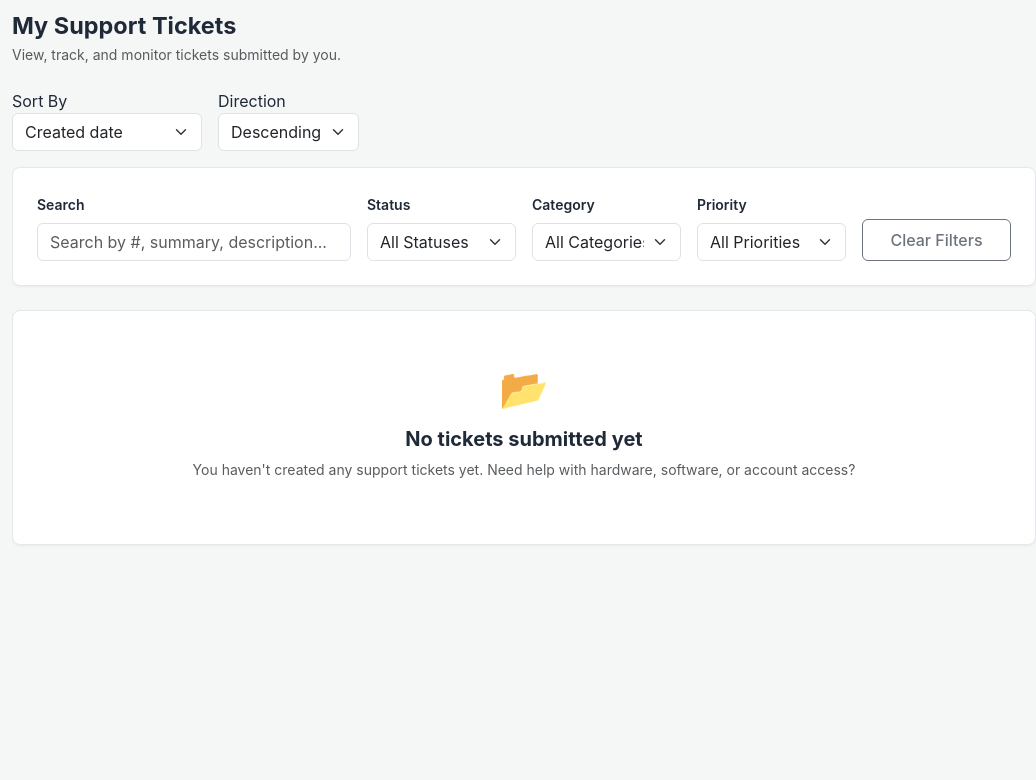
Test case: Lab 2 (Issue #5) - MyTickets Component › displays no-matching-results state when search/filter returns zero tickets
The width and height of the screenshot is (1036, 780).
Type "nonexistent" into the field named "Search tickets" at coordinates (194, 242), box x1=37 y1=223 x2=351 y2=261
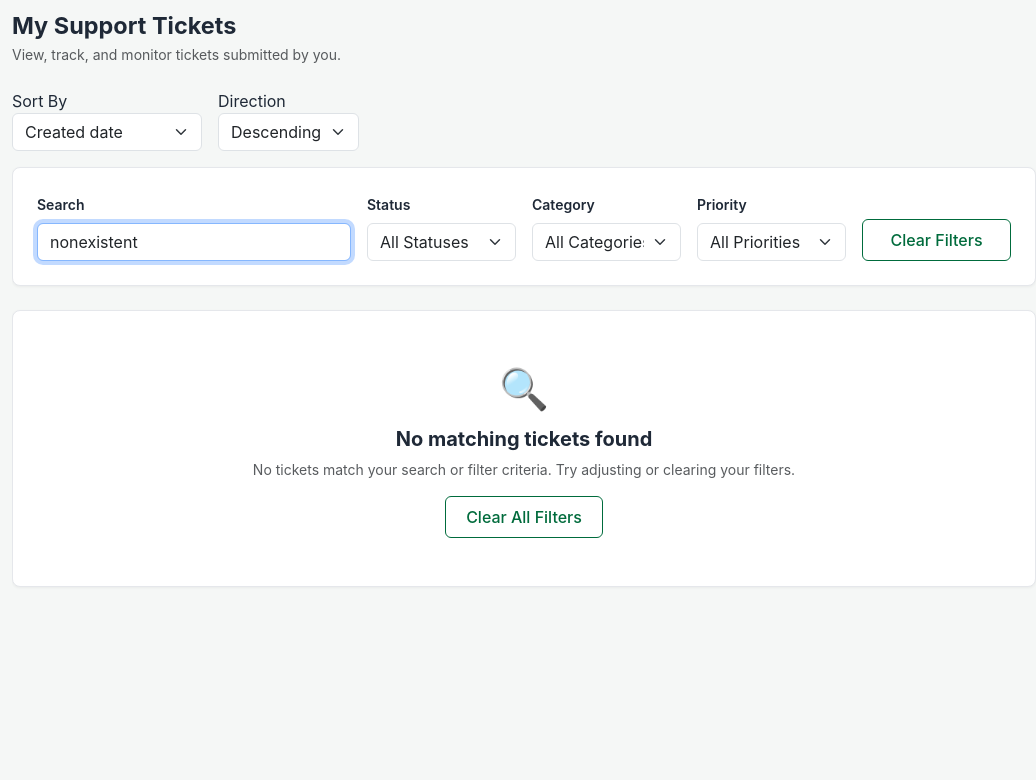
Result: the heading "No matching tickets found" is shown at x1=396 y1=427 x2=652 y2=451
Click the button "Clear All Filters" at coordinates (524, 517), box x1=445 y1=496 x2=603 y2=538
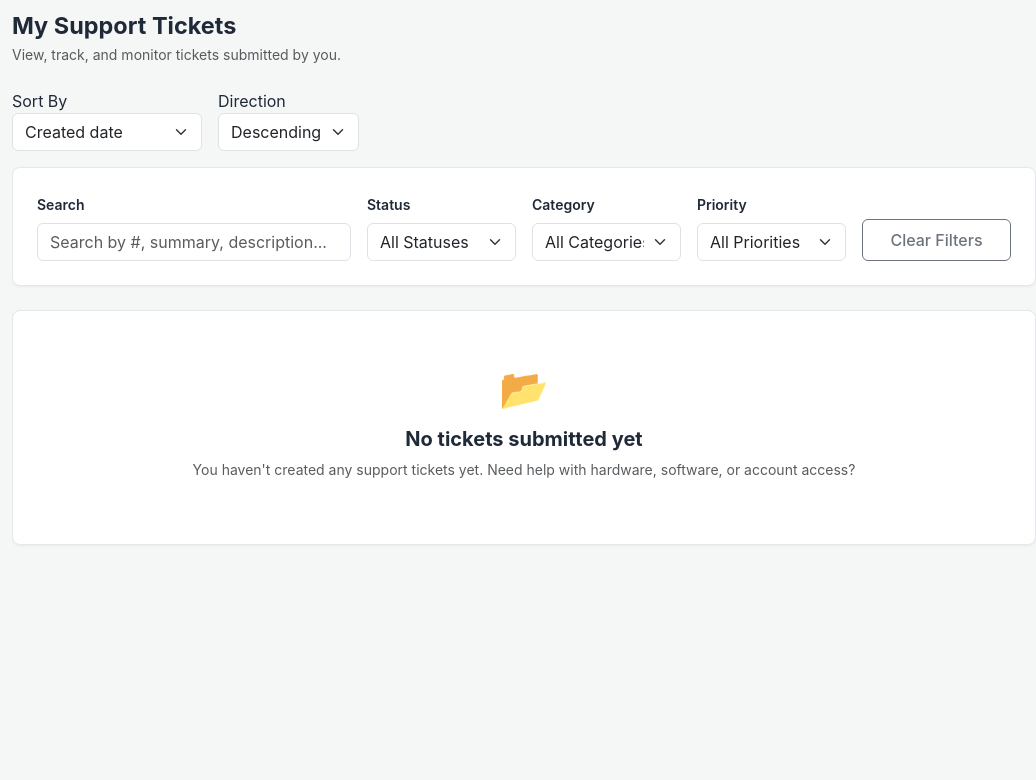
Result: the field named "Search tickets" is empty at x1=37 y1=223 x2=351 y2=261
